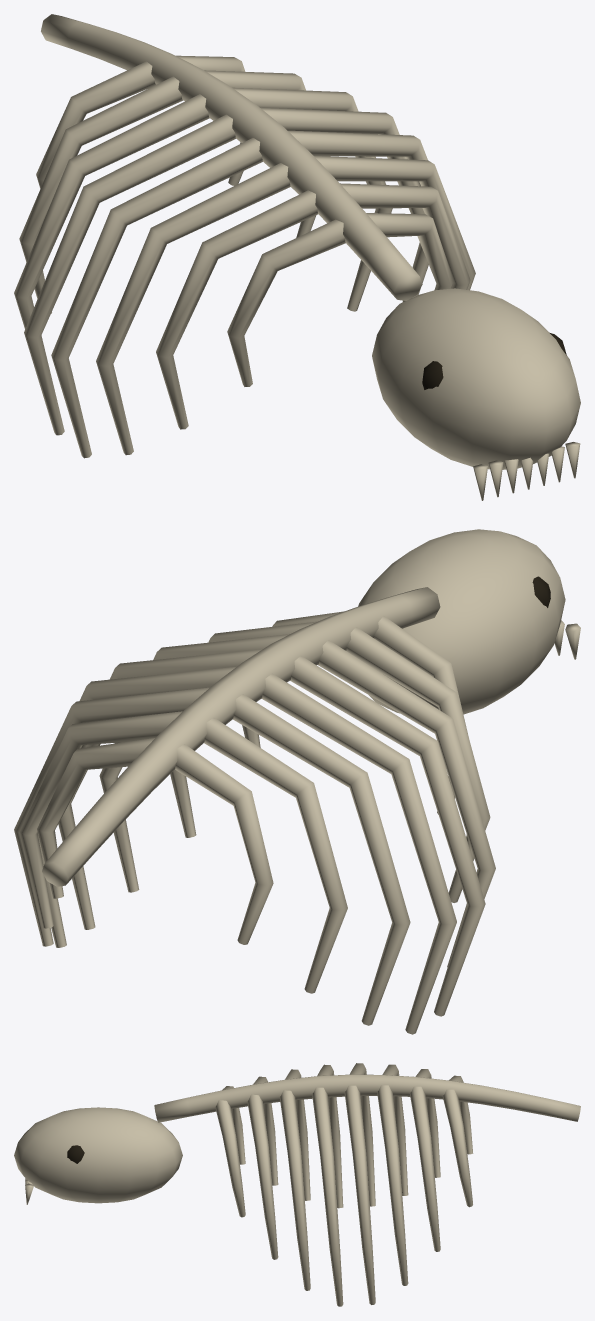
Rendered from bones.glb.
The picture shows the model from 3 angles, top to bottom: view 1: azimuth 30°, elevation 25°; view 2: azimuth 150°, elevation 25°; view 3: azimuth 270°, elevation 25°; orthographic projection. The views are drawn at different scales.
Visible parts, largest first — view 1: Bones; view 2: Bones; view 3: Bones.
Boxes of the visible parts, bbox=[...] form: Bones: bbox=[14, 14, 580, 500]; Bones: bbox=[14, 529, 580, 1034]; Bones: bbox=[14, 1063, 580, 1306].
Bounding box in the file's own units: 10.7 × 7.61 × 21.47.
